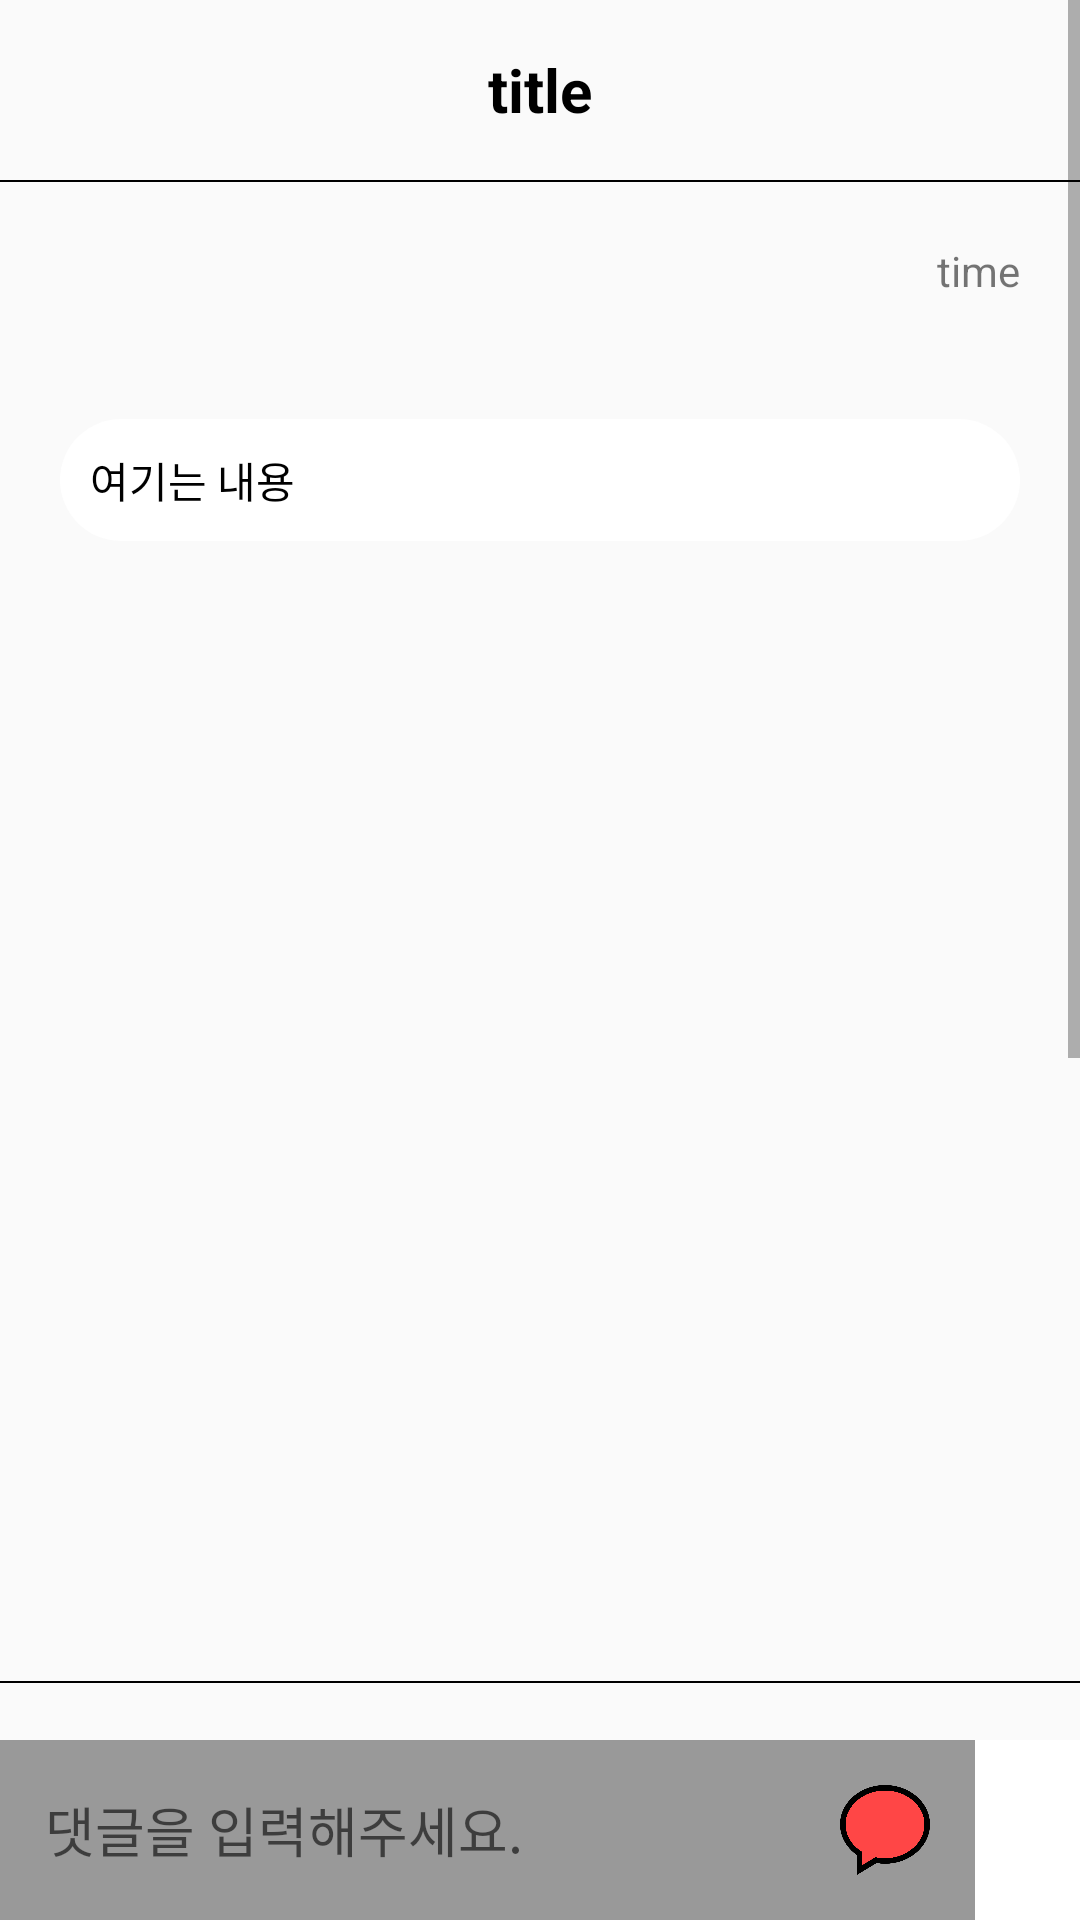

Locate icon controls on the screen. Image size 1080*1920, boxes as (x1, y1, x2, y2).
comment write: (840, 1785, 930, 1875)
